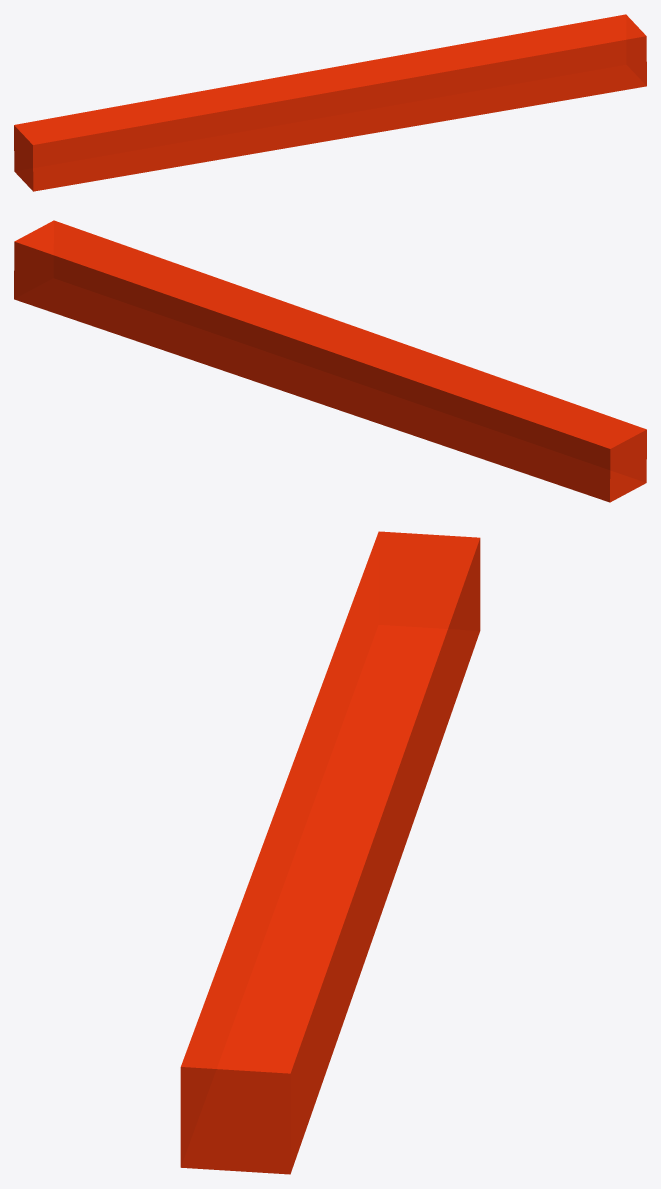
Rendered from Event_421556567_EErechit_64.fbx.
3 views of the same model, one above another, from view 1: azimuth 30°, elevation 25°; view 2: azimuth 150°, elevation 25°; view 3: azimuth 270°, elevation 25° (orthographic). The views are drawn at different scales.
Visible parts, largest first — view 1: Model; view 2: Model; view 3: Model.
Boxes of the visible parts, left/top/right/bottom form: Model: left=14, top=14, right=646, bottom=191; Model: left=14, top=220, right=646, bottom=502; Model: left=180, top=531, right=480, bottom=1174.
Size of the model in its own units: 0.9324 by 0.0844 by 0.2117.
